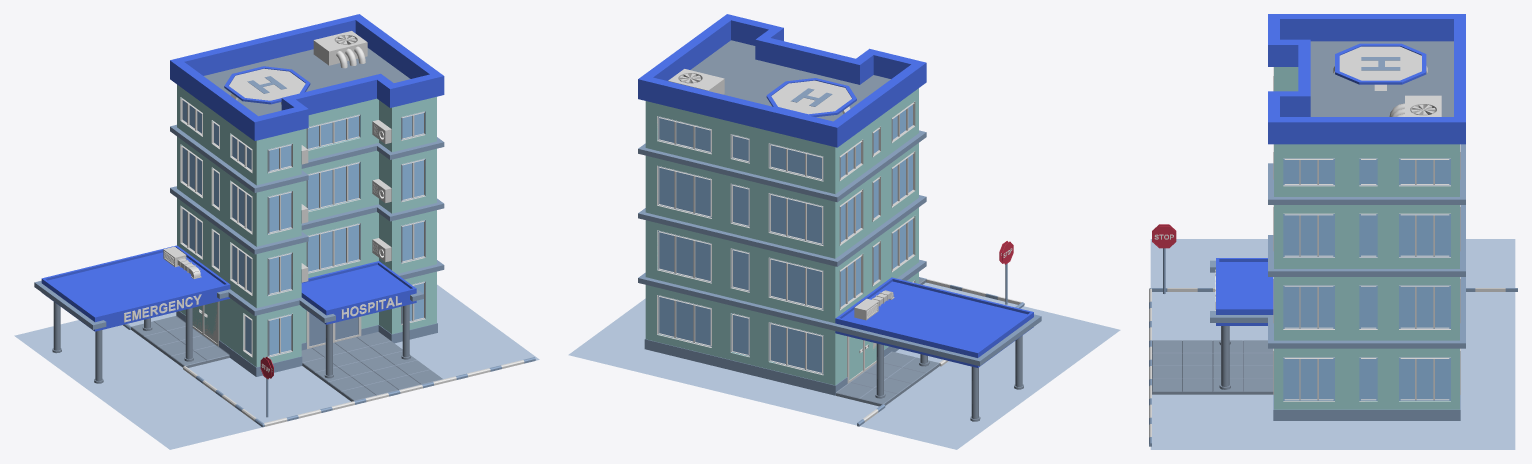
The model's file is hospital.fbx.
3 views of the same model, side by side, from view 1: azimuth 30°, elevation 25°; view 2: azimuth 150°, elevation 25°; view 3: azimuth 270°, elevation 25° (orthographic). The views are drawn at different scales.
Visible parts, largest first — view 1: opital_LOD0; view 2: opital_LOD0; view 3: opital_LOD0.
Boxes of the visible parts, x1,y1,x2,y2 form: opital_LOD0: [14, 14, 539, 449]; opital_LOD0: [568, 14, 1120, 449]; opital_LOD0: [1149, 14, 1517, 449].
Size of what is drawn, in the model's own units: 44170 by 29391 by 32560.
